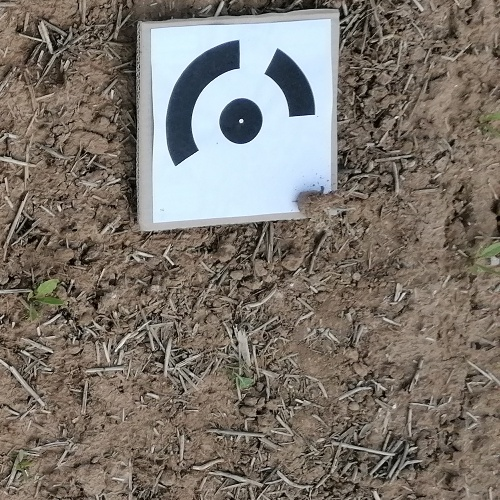beet: (27, 280, 64, 320), (466, 243, 500, 277)
